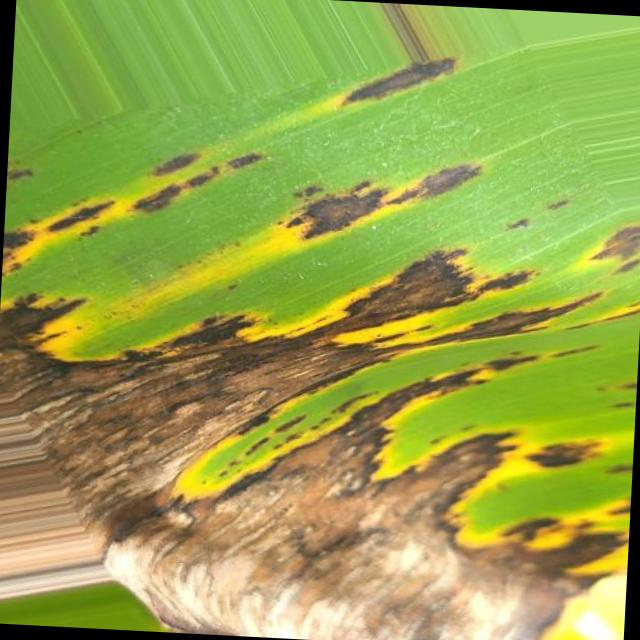Banana_Black_Sigatoka: (0, 168, 346, 633), (342, 189, 640, 640)
